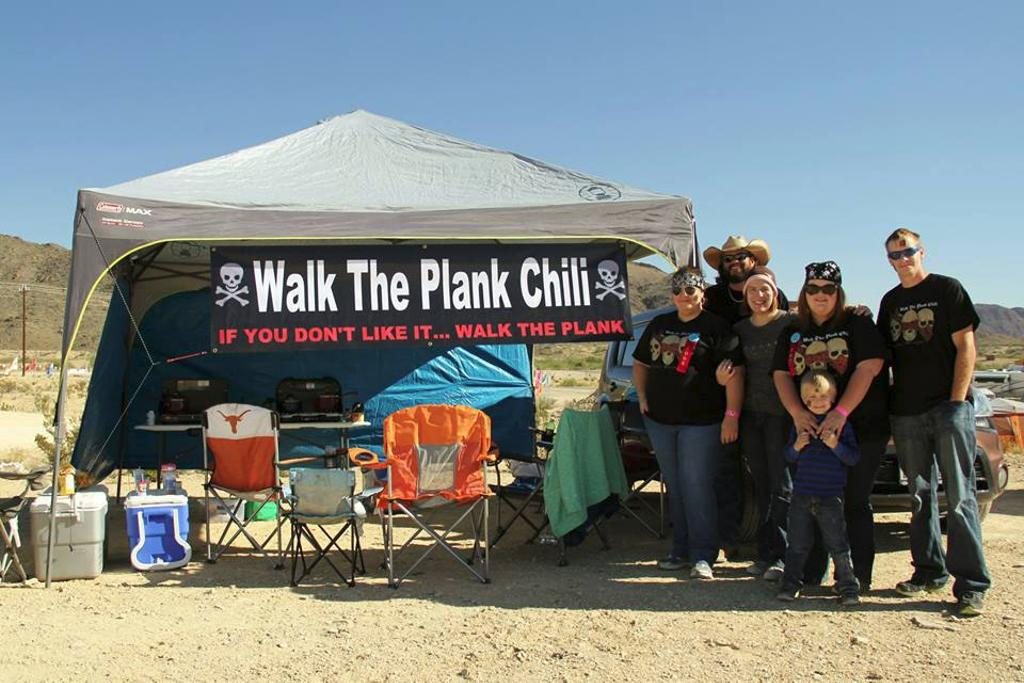face: (806, 281, 838, 315), (889, 244, 920, 275), (722, 250, 751, 281), (673, 282, 702, 311), (803, 387, 832, 415), (747, 283, 771, 313), (829, 347, 849, 372), (809, 354, 827, 374), (903, 318, 918, 342), (919, 317, 934, 339), (790, 356, 805, 376), (679, 343, 694, 362), (889, 321, 901, 343), (485, 446, 499, 461), (663, 349, 676, 365), (649, 342, 659, 361)
